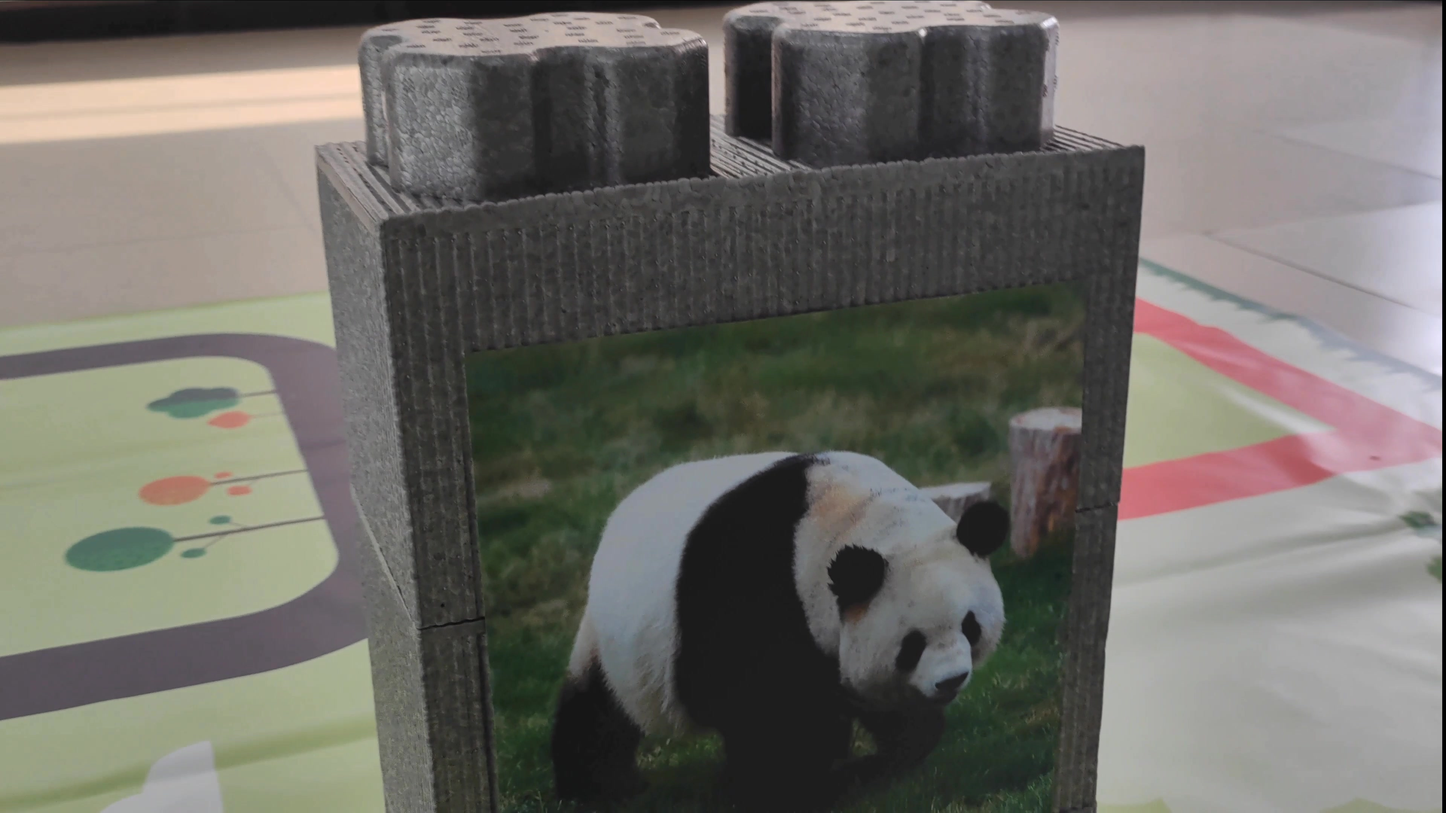panda: (546, 407, 1016, 792)
